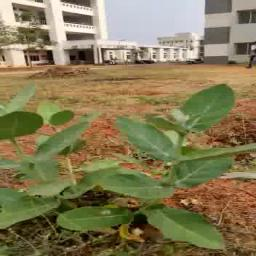Calotropis: (16, 88, 255, 248)
